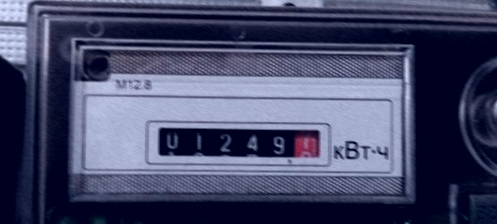0: (166, 127, 180, 147)
1: (193, 128, 205, 149)
2: (218, 129, 234, 151)
4: (247, 129, 260, 149)
7: (301, 127, 314, 147)
9: (273, 132, 286, 153)
screen: (144, 114, 335, 167)
